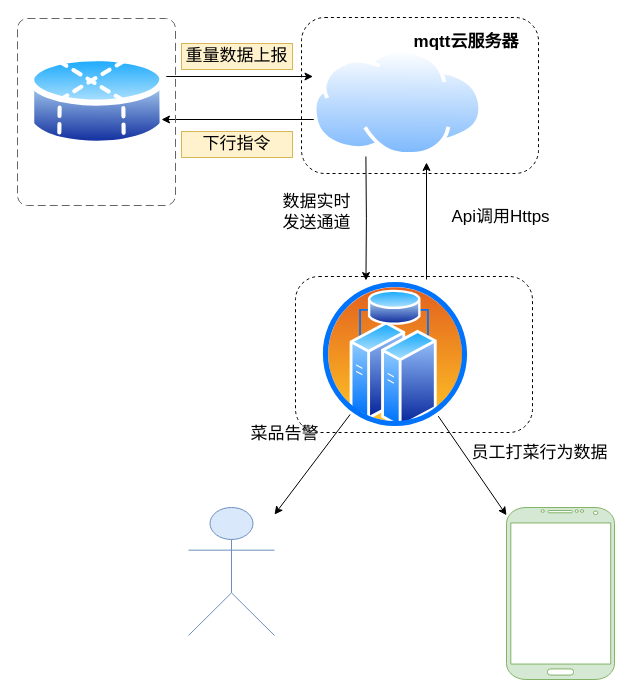
Image size: 632x697. Some labels were removed from this diagram. The box of each missing label's shape, as (x1, y1, x2, y2) in pixels:
Actor: (188, 506, 274, 636)
重力感应设备 [监测菜品实时重量]: (16, 18, 176, 206)
